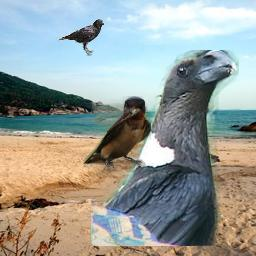Crow: (91, 50, 239, 246), (57, 19, 104, 56)
Swallow: (83, 96, 151, 174)
